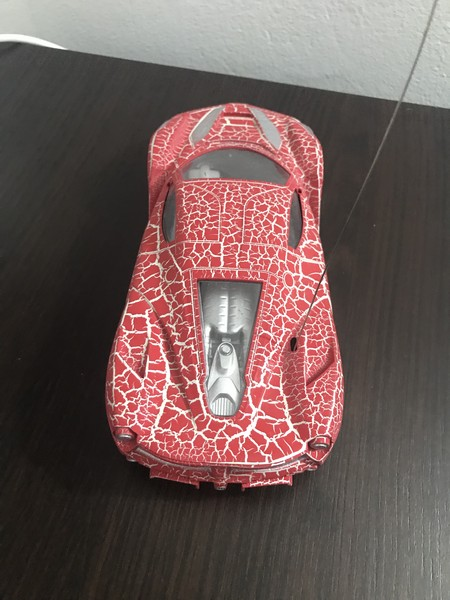RC: (101, 99, 348, 497)
